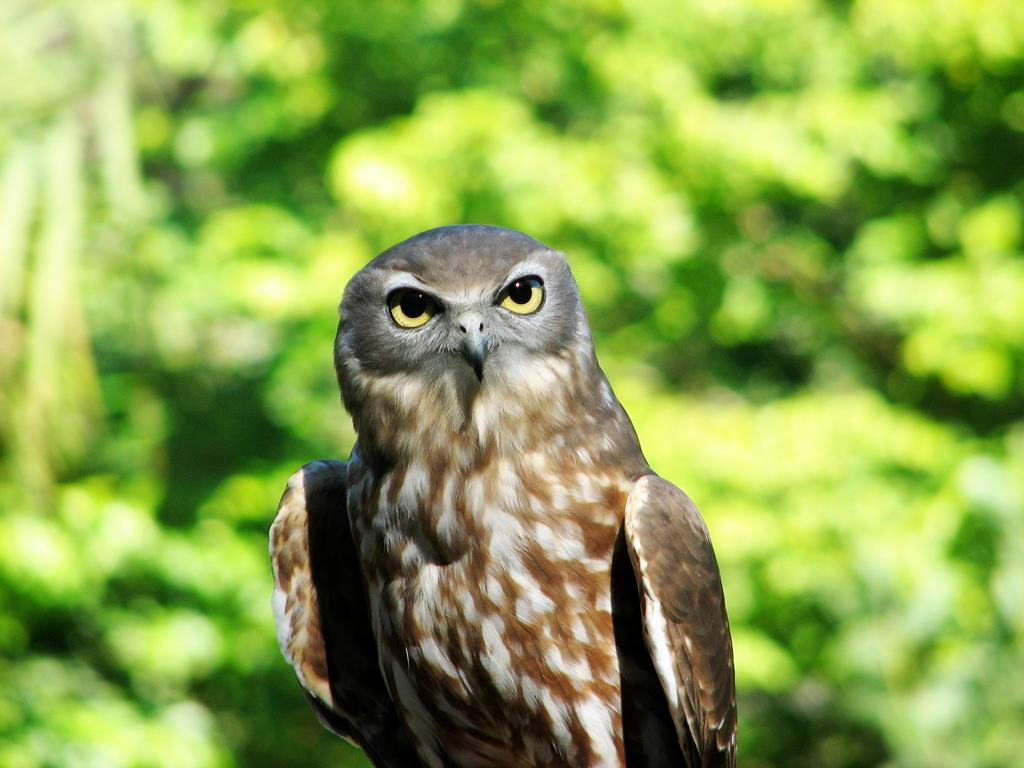Owl: (268, 224, 738, 768)
